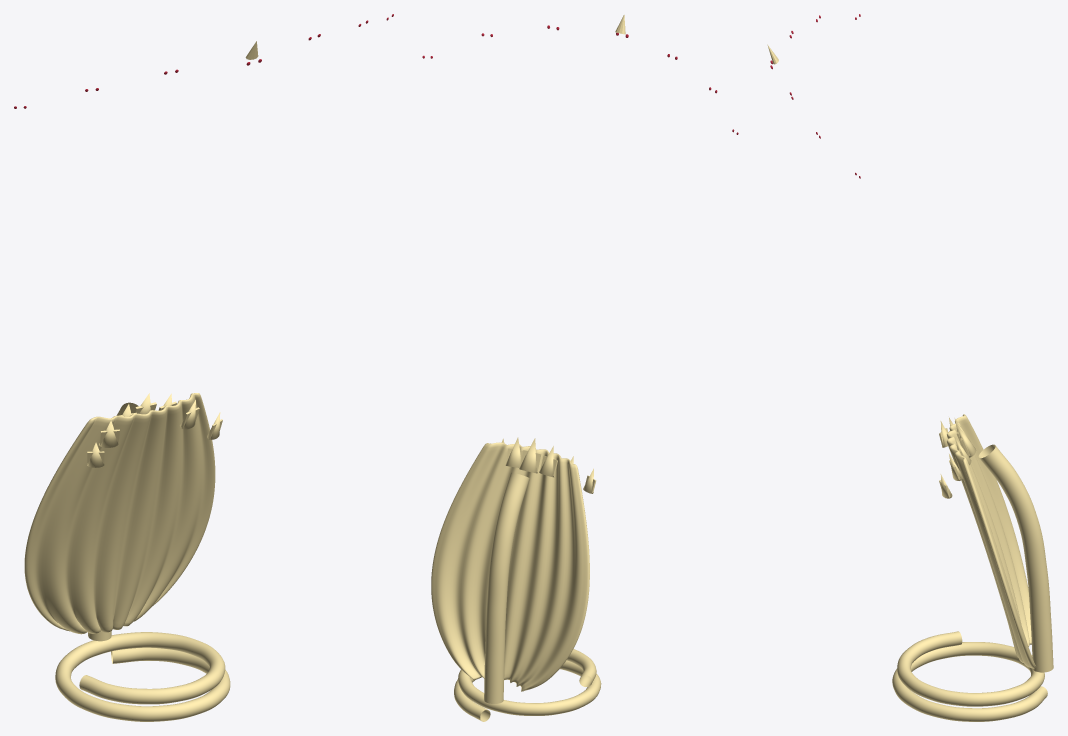
Rendered from sheshanaga_master.glb.
The picture shows the model from 3 angles, left to right: view 1: azimuth 30°, elevation 25°; view 2: azimuth 150°, elevation 25°; view 3: azimuth 270°, elevation 25°; orthographic projection. The views are drawn at different scales.
Visible parts, largest first — view 1: SheshanagaCanopy, Coils; view 2: SheshanagaCanopy, SpineTrunk, Coils; view 3: Coils, SheshanagaCanopy, SpineTrunk.
Boxes of the visible parts, bbox=[...] form: SheshanagaCanopy: bbox=[24, 393, 215, 634]; Coils: bbox=[55, 632, 230, 721]; SheshanagaCanopy: bbox=[431, 442, 589, 691]; SpineTrunk: bbox=[484, 472, 529, 703]; Coils: bbox=[454, 649, 601, 721]; Coils: bbox=[892, 631, 1047, 721]; SheshanagaCanopy: bbox=[947, 414, 1036, 668]; SpineTrunk: bbox=[978, 444, 1053, 672].
Size of the model in its own units: 0.8924 by 1.66 by 0.663.
